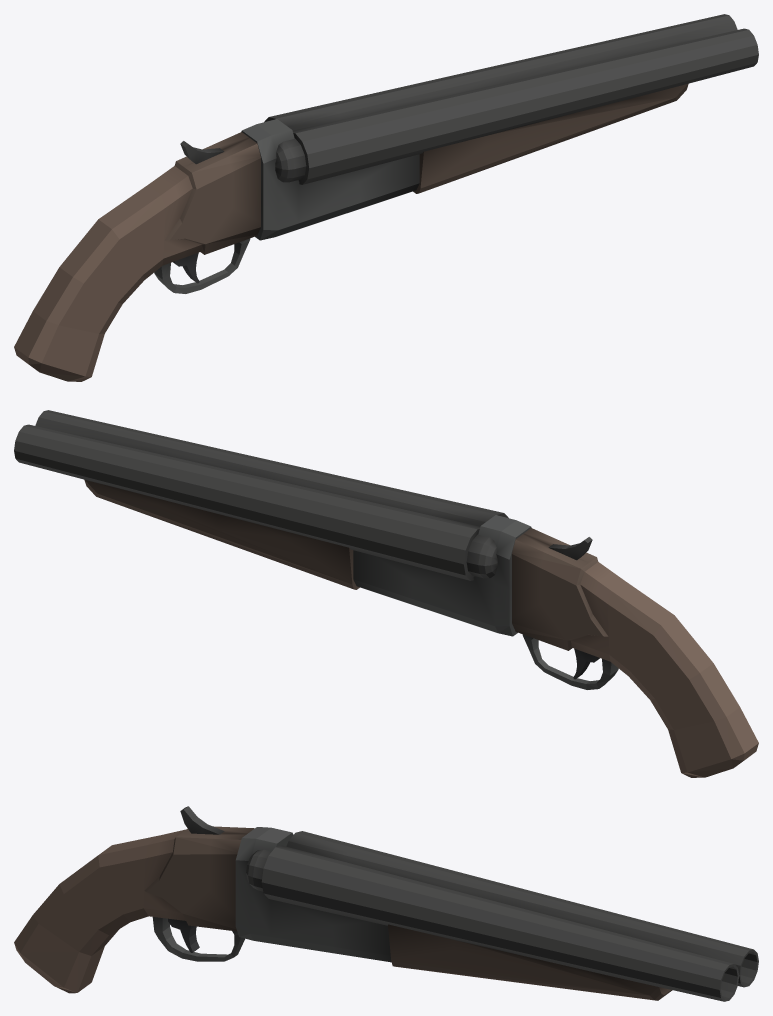
The model's file is q-shotgun-sawedoff.glb.
The picture shows the model from 3 angles, top to bottom: view 1: azimuth 30°, elevation 25°; view 2: azimuth 150°, elevation 25°; view 3: azimuth 330°, elevation 25°; orthographic projection.
Visible parts, largest first — view 1: body; view 2: body; view 3: body.
Boxes of the visible parts, x1,y1,x2,y2 form: body: (14, 14, 758, 381); body: (14, 410, 758, 777); body: (14, 806, 758, 1001).
Bounding box in the file's own units: 1 × 0.2766 × 0.1145.
